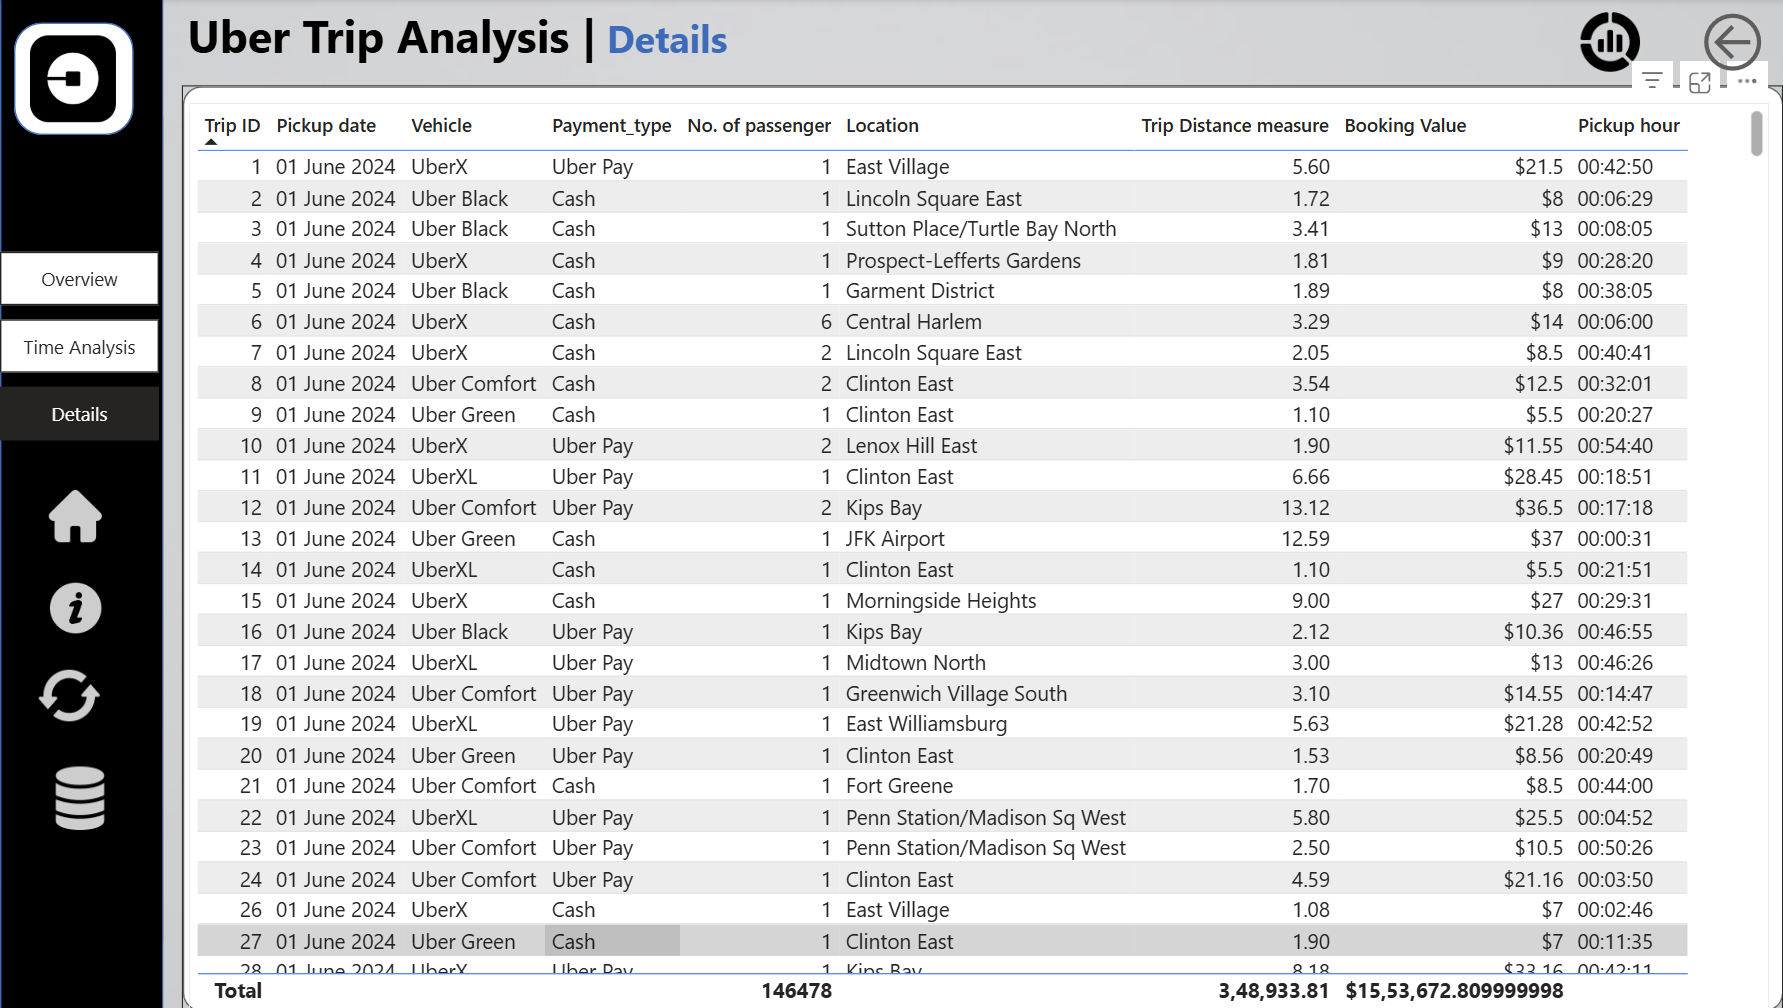

The page's visual inventory and layout, read from the dashboard file:
{"tool":"powerbi","page":{"name":"Details","canvas":[1280,720],"ordinal":2},"visuals":[{"type":"shape","box":[0,0,116.2,720],"z":0},{"type":"shape","box":[128.8,62.5,1137.5,657.5],"z":1000},{"type":"textbox","box":[128.6,0,591.4,62.9],"z":2000},{"type":"tableEx","fields":{"Values":["Trip Details.Trip ID","Trip Details.Pickup date","Trip Details.Vehicle","Trip Details.Payment_type","Sum(Trip Details.passenger_count)","Location Table.Location","Trip Details.Total Trip Distance measure","Trip Details.Total Booking Value","Trip Details.Pickup hour (HH MM SS)"]},"box":[133.8,75,1123.8,645],"z":3000},{"type":"actionButton","box":[1205,0,52.5,62.5],"z":3001},{"type":"image","box":[1105,5,80,52.5],"z":3002},{"type":"shape","box":[10,17.5,85,80],"z":3003},{"type":"image","box":[16.2,17.5,71.2,80],"z":3004},{"type":"pageNavigator","box":[0,180,113.8,136.2],"z":3005},{"type":"image","box":[15,410,77.5,46.2],"z":3006},{"type":"image","box":[15,468.8,68.8,53.8],"z":3007},{"type":"image","box":[26.2,345,55,47.5],"z":3008},{"type":"image","box":[21.2,541.2,71.2,55],"z":3009}]}

Visuals, with their boxes on the page's 1280x720 design canvas (x1, y1, x2, y2). These are canvas units, not pixel positions in the 1783x1008 screenshot, which may show the page scaled, cropped or inside an application window:
shape: 0:0:116:720
shape: 129:62:1266:720
textbox: 129:0:720:63
tableEx - Trip Details.Trip ID x Trip Details.Pickup date: 134:75:1258:720
actionButton: 1205:0:1258:62
image: 1105:5:1185:58
shape: 10:18:95:98
image: 16:18:87:98
pageNavigator: 0:180:114:316
image: 15:410:92:456
image: 15:469:84:523
image: 26:345:81:392
image: 21:541:92:596
